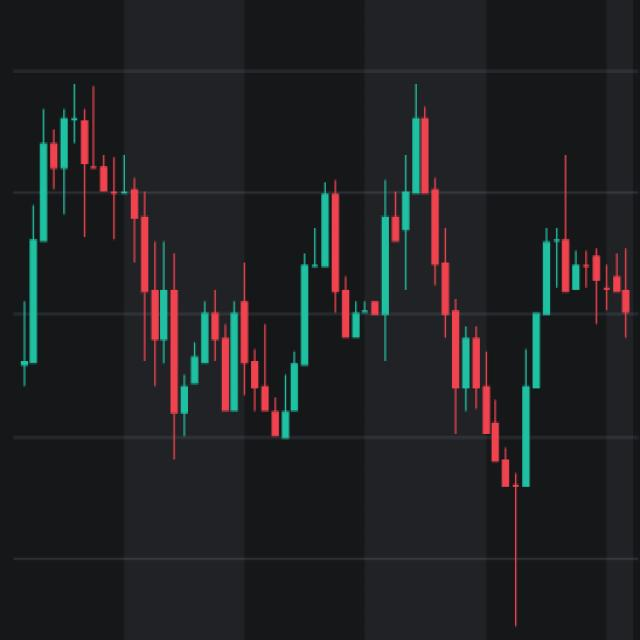Resistance-Emerging: (21, 73, 632, 489)
